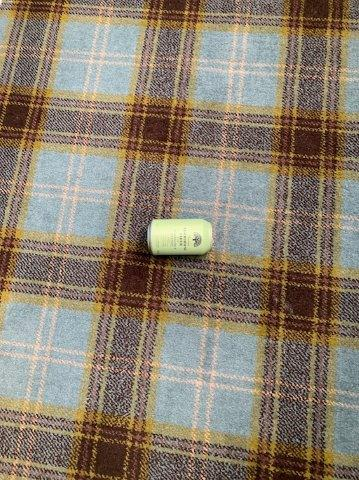kaleng: (147, 219, 213, 255)
